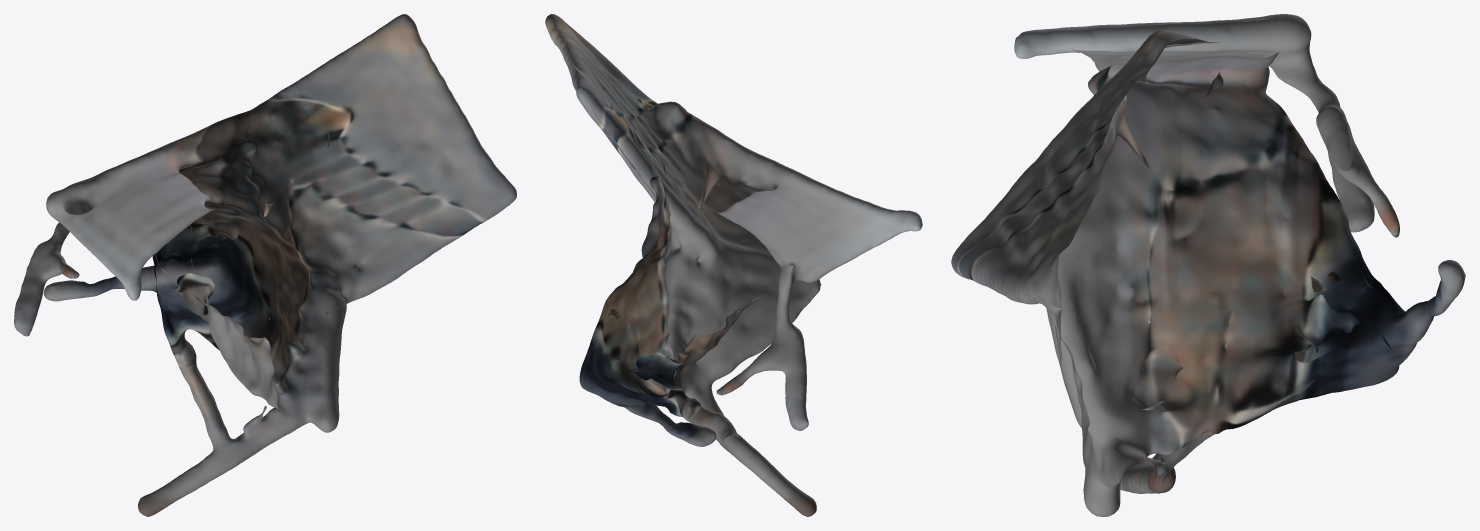
3 renders of one model, left to right at view 1: azimuth 30°, elevation 25°; view 2: azimuth 150°, elevation 25°; view 3: azimuth 270°, elevation 25°, orthographic. The views are drawn at different scales.
Visible parts, largest first — view 1: test_out.obj; view 2: test_out.obj; view 3: test_out.obj.
Boxes of the visible parts, x1=… form: test_out.obj: x1=14, y1=14, x2=516, y2=516; test_out.obj: x1=545, y1=14, x2=922, y2=516; test_out.obj: x1=951, y1=14, x2=1465, y2=516.
Bounding box in the file's own units: 1.01 × 1.16 × 0.8401.
1 material, 1 textured.
